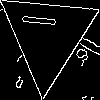I: (22, 12, 65, 30)
